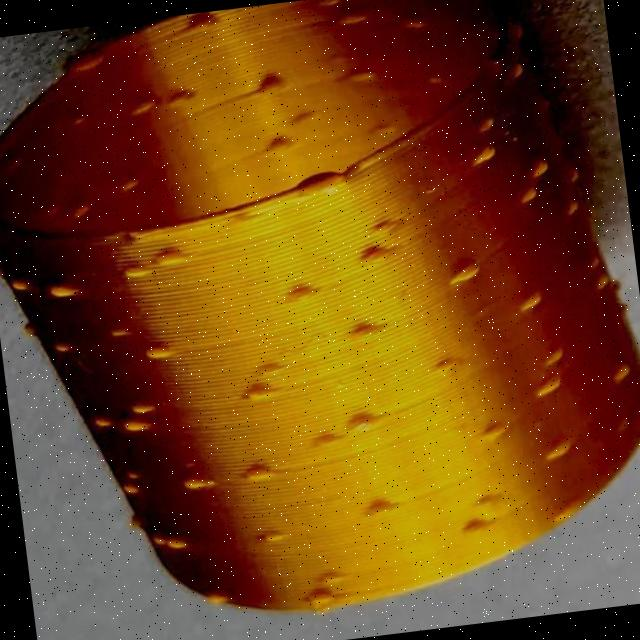blobs: (302, 418, 352, 458), (345, 401, 390, 439), (124, 88, 168, 123), (438, 255, 478, 291), (233, 378, 284, 406), (364, 494, 408, 526), (526, 376, 567, 410), (152, 241, 197, 271), (276, 280, 324, 308), (42, 281, 93, 306), (256, 69, 291, 105), (63, 48, 105, 78), (255, 130, 299, 158), (544, 496, 585, 526), (541, 428, 580, 459), (180, 10, 223, 38), (507, 288, 552, 314), (462, 140, 507, 166), (114, 468, 154, 497), (348, 316, 388, 345), (359, 237, 396, 268), (368, 114, 406, 144), (456, 512, 491, 542), (479, 415, 515, 444), (257, 524, 297, 550), (10, 270, 50, 296), (242, 456, 277, 485), (156, 532, 196, 557), (176, 469, 213, 496), (115, 168, 148, 198), (167, 85, 203, 112), (90, 405, 124, 433), (428, 353, 466, 378), (142, 338, 174, 366), (541, 342, 569, 372), (412, 70, 452, 91), (400, 12, 430, 40), (116, 416, 154, 438), (338, 6, 374, 28), (70, 196, 100, 222), (528, 154, 558, 180), (476, 106, 506, 132), (119, 261, 152, 284), (592, 269, 620, 296), (306, 584, 340, 606), (560, 192, 588, 218), (342, 62, 372, 86), (612, 359, 638, 386), (506, 58, 532, 84), (68, 104, 94, 130), (517, 182, 544, 206), (128, 398, 156, 418), (204, 586, 229, 608), (318, 0, 354, 10)
